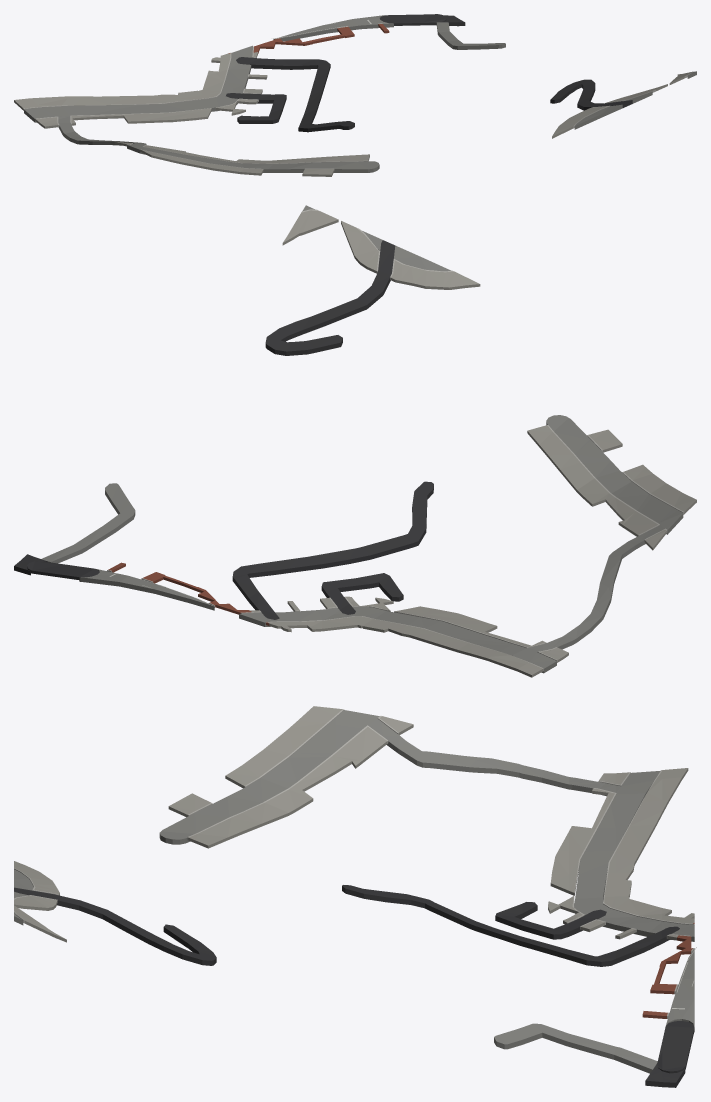
3 renders of one model, top to bottom at view 1: azimuth 30°, elevation 25°; view 2: azimuth 150°, elevation 25°; view 3: azimuth 270°, elevation 25°, orthographic. The views are drawn at different scales.
Size of the model in its own units: 147 by 40.59 by 146.
